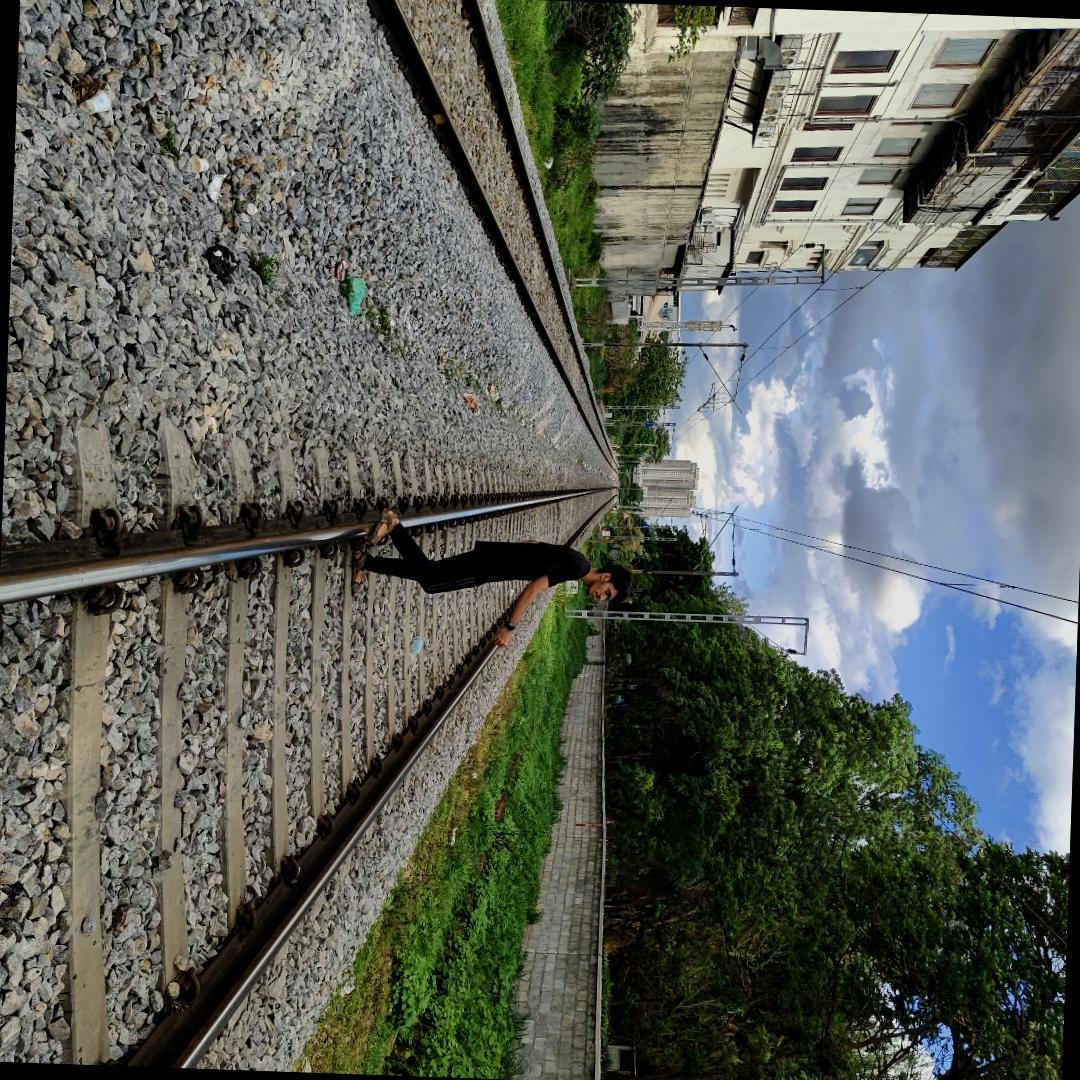standing: (347, 497, 632, 658)
